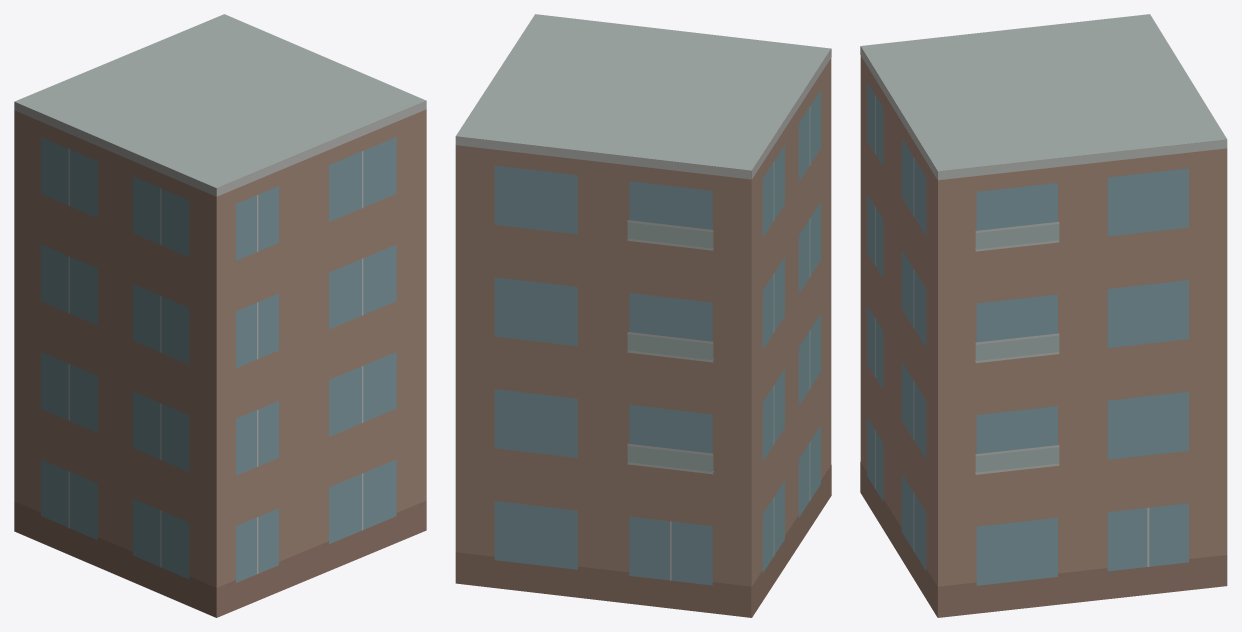
Rendered from residential-bf138ccc-c3d8-4a77-837a-13f876a84fa3.glb.
3 views of the same model, side by side, from view 1: azimuth 30°, elevation 25°; view 2: azimuth 150°, elevation 25°; view 3: azimuth 270°, elevation 25° (orthographic). The views are drawn at different scales.
Parts seen in each view (by area): view 1: residential-bf138ccc-c3d8-4a77-837a-13f876a84fa3.tmp; view 2: residential-bf138ccc-c3d8-4a77-837a-13f876a84fa3.tmp; view 3: residential-bf138ccc-c3d8-4a77-837a-13f876a84fa3.tmp.
Part boxes in pixels (x1=…): residential-bf138ccc-c3d8-4a77-837a-13f876a84fa3.tmp: x1=14, y1=14, x2=426, y2=617; residential-bf138ccc-c3d8-4a77-837a-13f876a84fa3.tmp: x1=455, y1=14, x2=831, y2=617; residential-bf138ccc-c3d8-4a77-837a-13f876a84fa3.tmp: x1=860, y1=14, x2=1227, y2=617.
Size of the model in its own units: 9.23 by 12.2 by 9.1.
